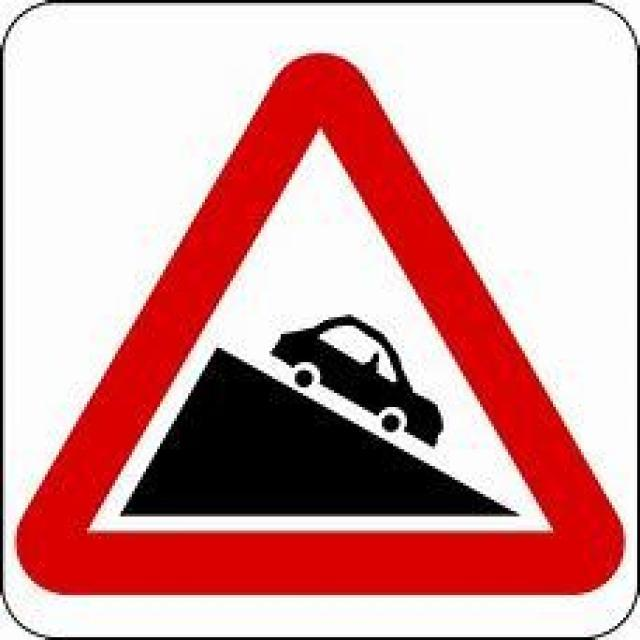steep descent: (26, 53, 616, 591)
